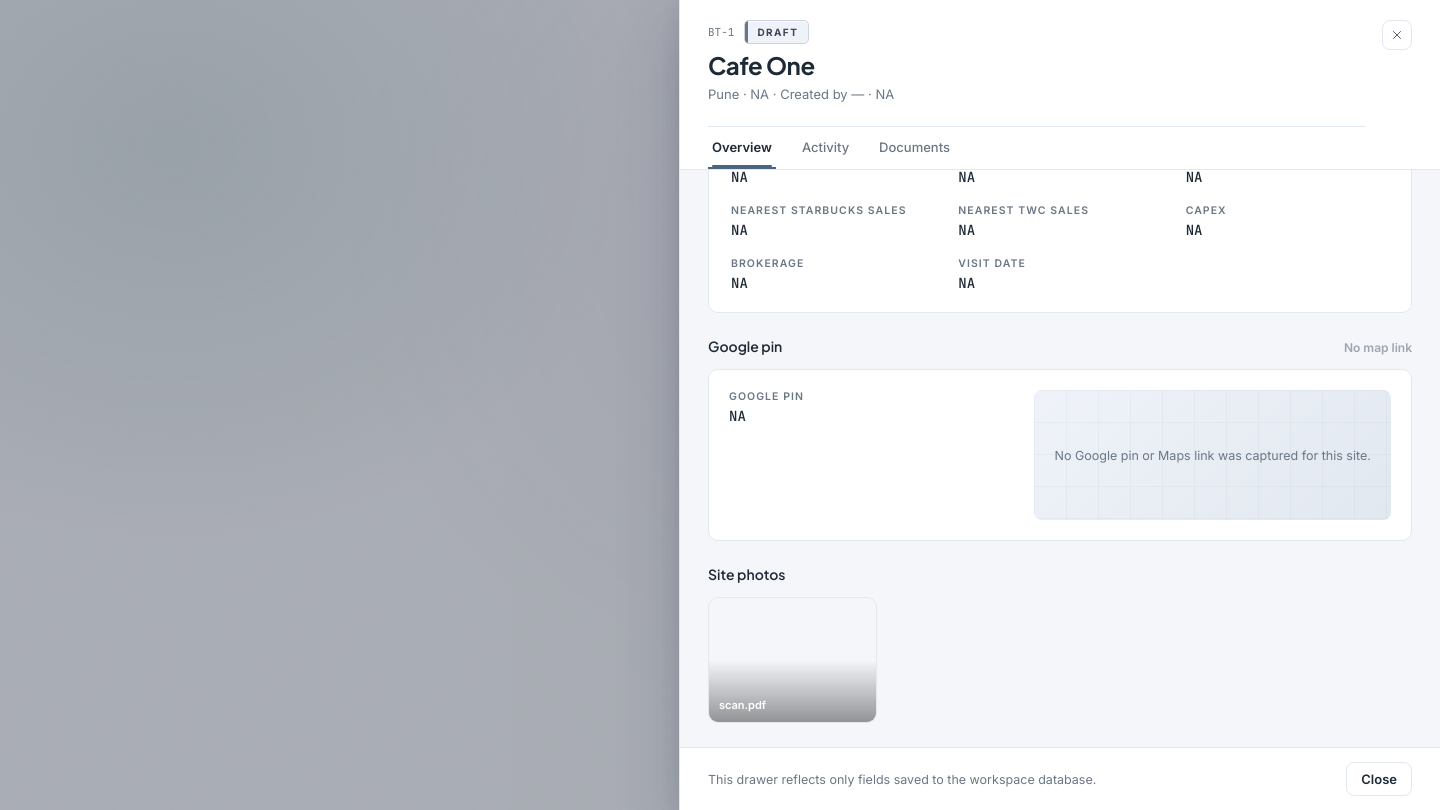
it: photo tiles › carries mimeType through, so a non-image is not rendered as <img>
(page scrolled)
Click the button with aria-label "view photo · scan.pdf" at (792,660), box [708,597,876,723]
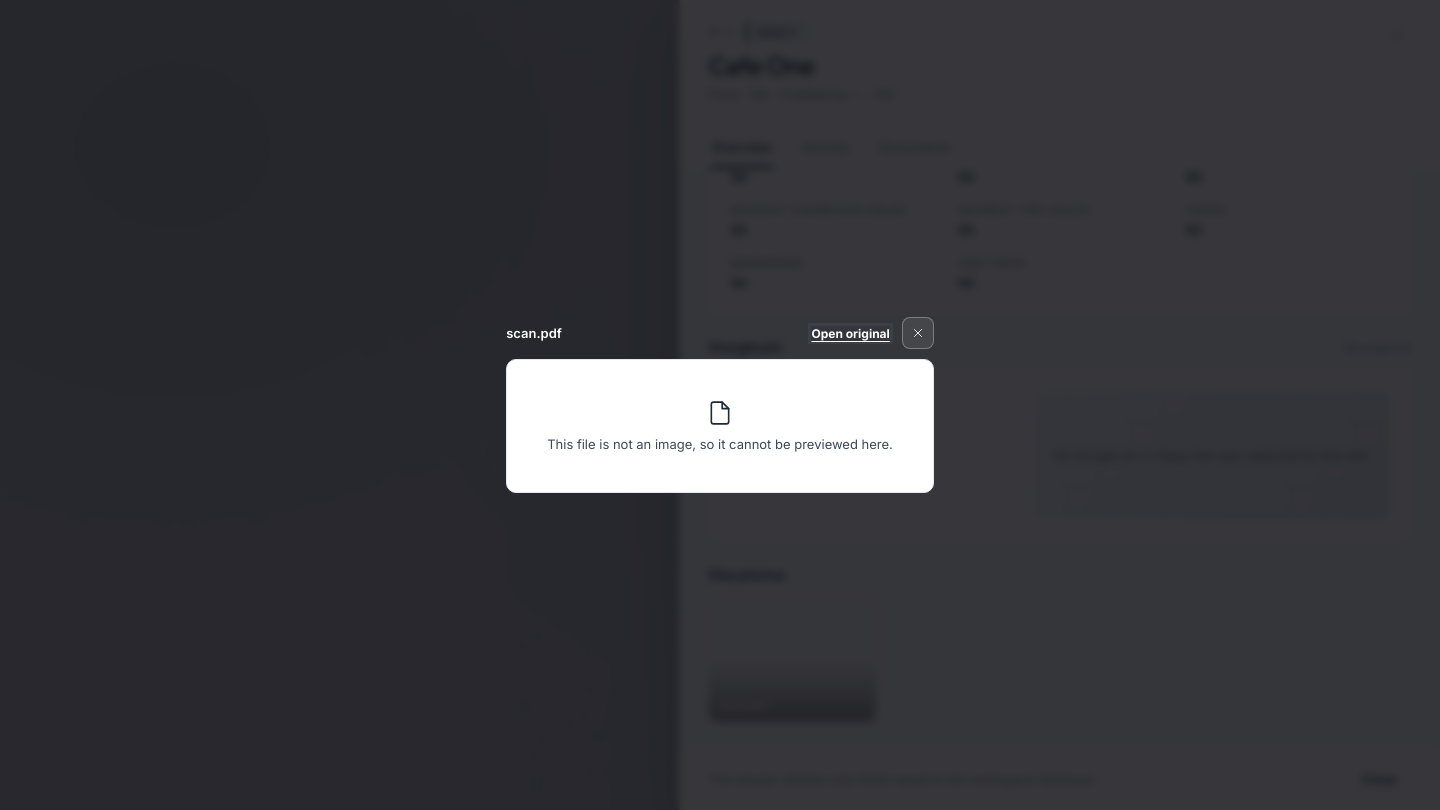
expect the text "This file is not an image, so it cannot be previewed here." is shown: met, box [547,436,893,452]
